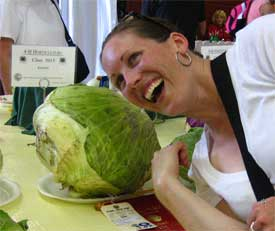cabbage: (34, 82, 162, 199)
